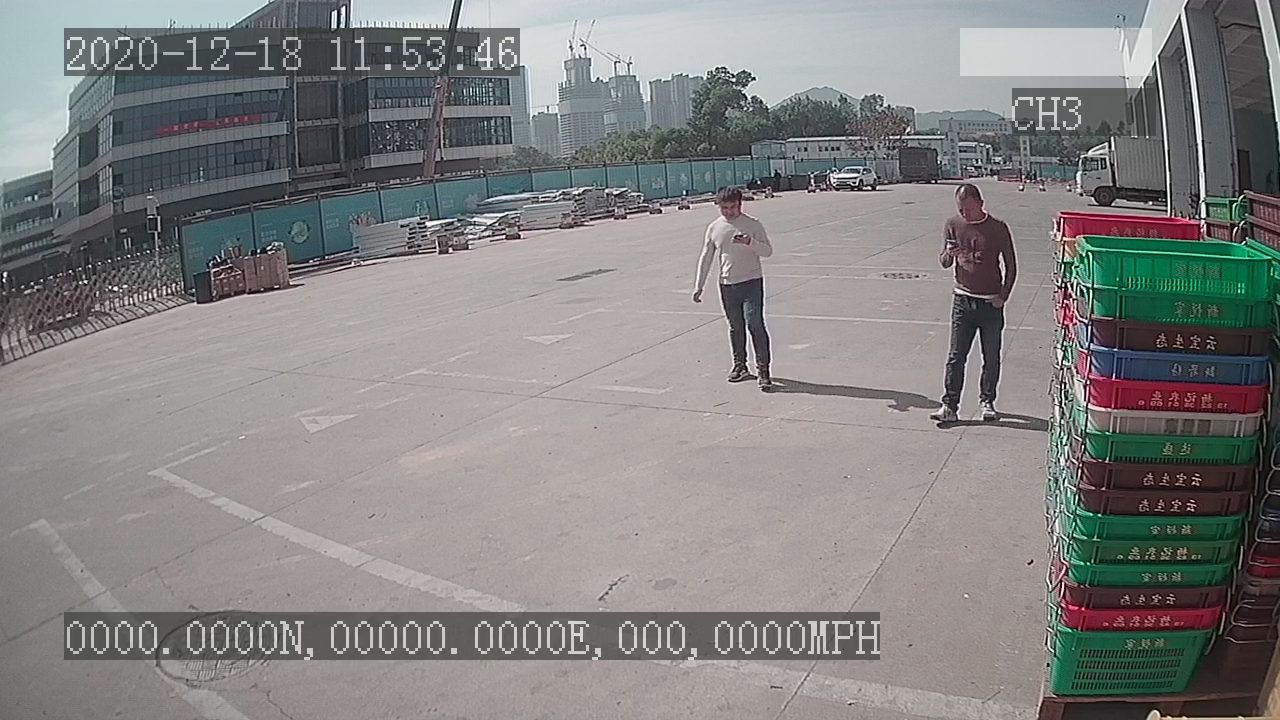person: (911, 179, 1020, 431), (684, 185, 784, 397)
